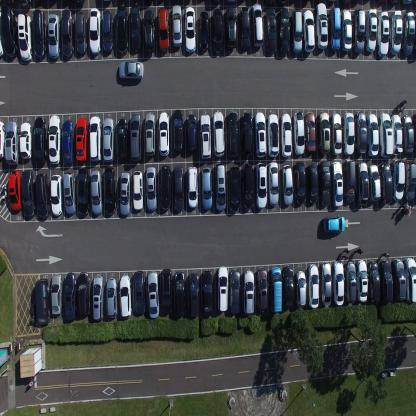car: (2, 6, 18, 58), (34, 172, 50, 220), (34, 278, 50, 325), (17, 13, 32, 62), (33, 116, 47, 165), (314, 1, 328, 50), (76, 167, 90, 215), (48, 115, 61, 166), (33, 8, 46, 59), (21, 169, 35, 216), (5, 119, 19, 166), (64, 272, 77, 322), (61, 8, 74, 58), (266, 112, 280, 158), (378, 112, 392, 157), (250, 3, 264, 48), (241, 162, 254, 210), (212, 110, 225, 158), (307, 262, 320, 310), (389, 8, 402, 56), (88, 7, 101, 55), (62, 171, 76, 215), (392, 258, 406, 302), (379, 260, 393, 304), (142, 10, 156, 54), (254, 111, 267, 158), (256, 267, 269, 314), (242, 269, 255, 316), (367, 261, 381, 304), (224, 6, 238, 49), (356, 160, 369, 206), (343, 158, 356, 204), (159, 164, 172, 210), (102, 116, 115, 162), (90, 170, 103, 216), (328, 6, 341, 52), (157, 6, 170, 52), (47, 13, 60, 59), (214, 162, 226, 211), (104, 166, 116, 215), (89, 114, 101, 163), (129, 3, 141, 52), (292, 110, 305, 155), (352, 8, 365, 53), (318, 159, 330, 207), (270, 266, 282, 314), (184, 5, 196, 53), (116, 5, 128, 53), (391, 159, 405, 200), (366, 112, 379, 156), (77, 272, 90, 316), (240, 111, 252, 158), (199, 113, 211, 160), (144, 111, 156, 158), (404, 256, 416, 303), (147, 271, 159, 318), (280, 112, 292, 158), (145, 166, 157, 212), (116, 116, 128, 162), (75, 116, 87, 162), (134, 270, 146, 316), (92, 275, 104, 321), (365, 7, 377, 53), (75, 10, 87, 56), (130, 112, 141, 162), (379, 162, 392, 204), (118, 60, 144, 81), (331, 162, 343, 207), (294, 160, 306, 205), (201, 166, 213, 211), (172, 109, 184, 154), (158, 112, 170, 157), (119, 274, 131, 319), (402, 11, 414, 56), (377, 11, 389, 56), (228, 110, 239, 159), (279, 6, 290, 55), (390, 114, 403, 155), (8, 170, 21, 211), (404, 158, 416, 202), (318, 112, 330, 156), (256, 162, 267, 210), (228, 165, 239, 213), (217, 265, 228, 313), (201, 270, 212, 318), (174, 270, 185, 318), (401, 114, 414, 154), (19, 120, 32, 160), (320, 260, 331, 307), (266, 6, 277, 53), (355, 111, 367, 154), (106, 276, 118, 319), (302, 9, 314, 52), (268, 160, 279, 206), (119, 171, 130, 217), (62, 120, 73, 166), (229, 270, 240, 316), (188, 272, 199, 318), (161, 268, 172, 314), (212, 7, 223, 53), (281, 164, 293, 206), (132, 169, 144, 211), (50, 174, 62, 216), (344, 261, 356, 303), (333, 260, 344, 305), (239, 6, 250, 51), (368, 164, 381, 202), (294, 270, 307, 308), (340, 9, 352, 50), (198, 10, 210, 51), (174, 164, 184, 213), (187, 166, 198, 210), (282, 266, 293, 310), (291, 10, 302, 54), (102, 9, 113, 53), (186, 114, 198, 154), (343, 111, 354, 154), (331, 112, 342, 155), (305, 111, 316, 154), (356, 260, 367, 303), (171, 4, 182, 47), (51, 273, 62, 315), (308, 162, 318, 204), (323, 215, 346, 233), (0, 119, 6, 159), (0, 9, 4, 59), (17, 0, 32, 8), (4, 0, 16, 8), (400, 0, 413, 7), (340, 0, 351, 6), (265, 0, 276, 5), (74, 0, 85, 5), (388, 0, 398, 5), (226, 0, 236, 5), (375, 0, 386, 4), (278, 0, 289, 4)
